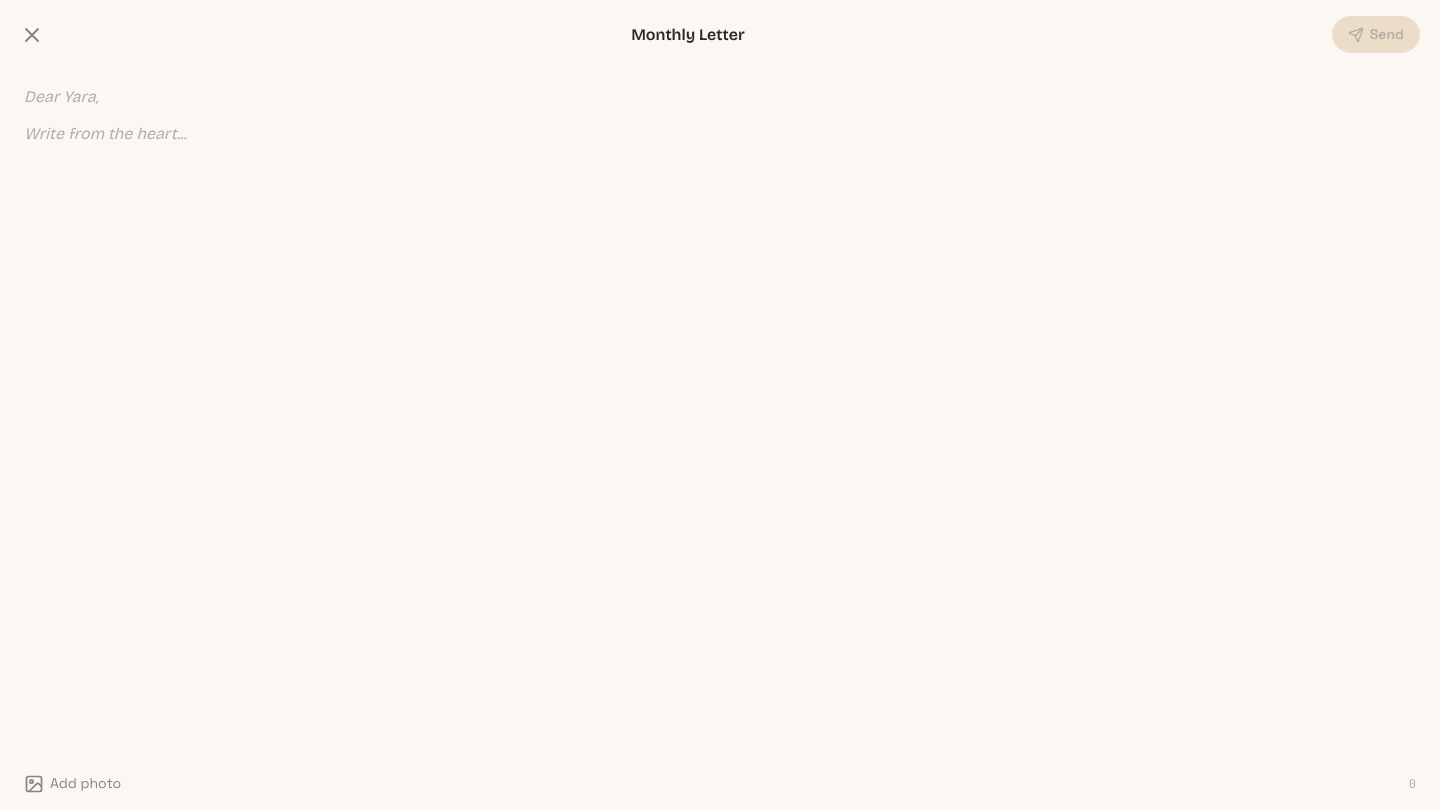
Test: MonthlyLetterComposer › interaction › enables send button when content typed
In the text box with test id "letter-textarea": (720, 271) [24,121,1416,421], type "I love you"
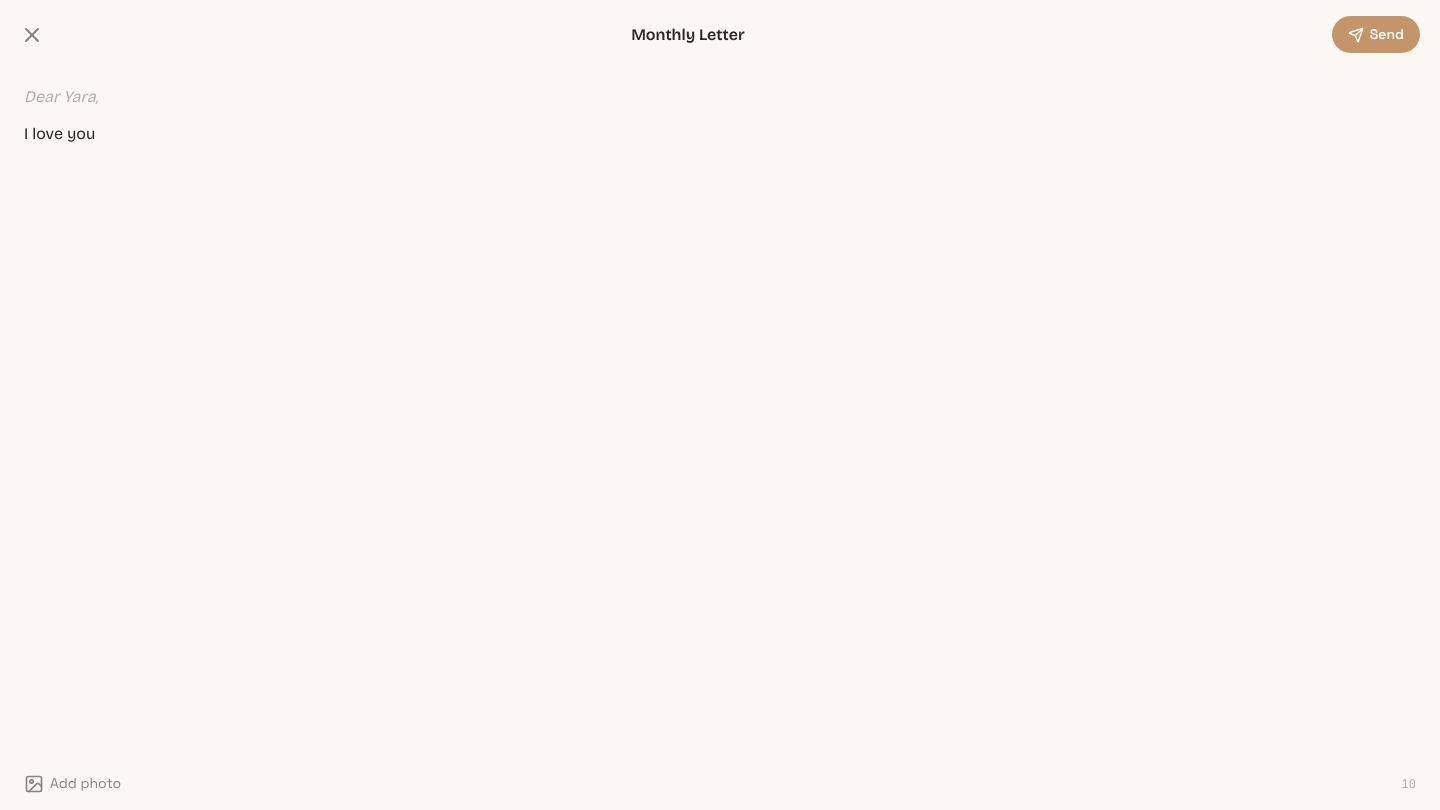
Expected: the button with test id "send-button" is enabled, [1332,16,1420,53]
